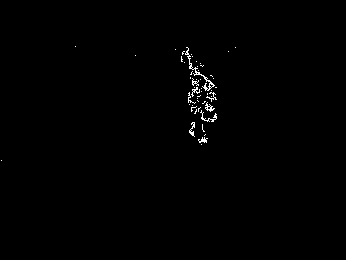person: (186, 60, 215, 147)
